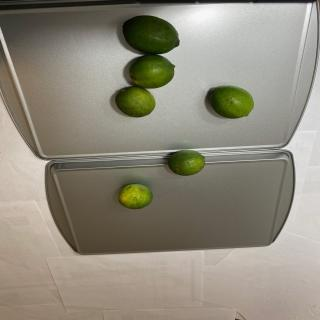Lemon: (122, 15, 180, 54), (128, 54, 176, 89), (210, 85, 254, 119), (114, 86, 156, 118), (168, 149, 205, 176), (118, 183, 153, 210)
